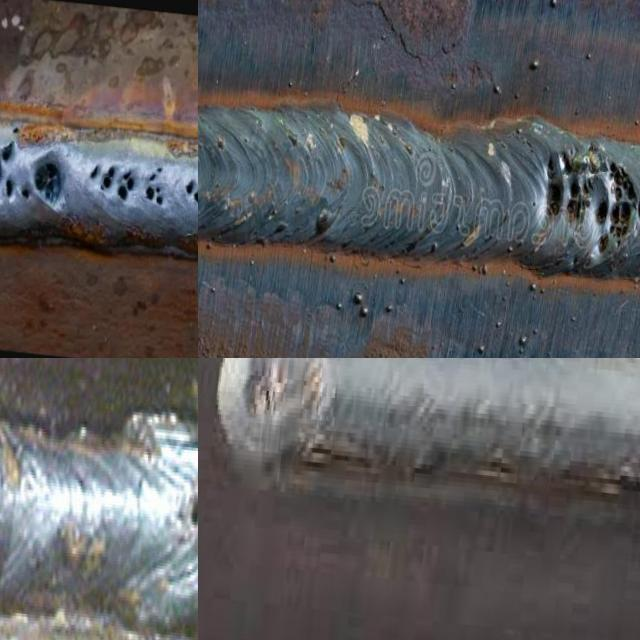defect: (0, 121, 65, 208), (592, 160, 640, 255), (542, 149, 595, 222), (142, 163, 165, 210), (117, 169, 137, 206), (185, 483, 198, 539), (99, 163, 115, 194), (180, 179, 198, 206), (88, 163, 99, 181)
